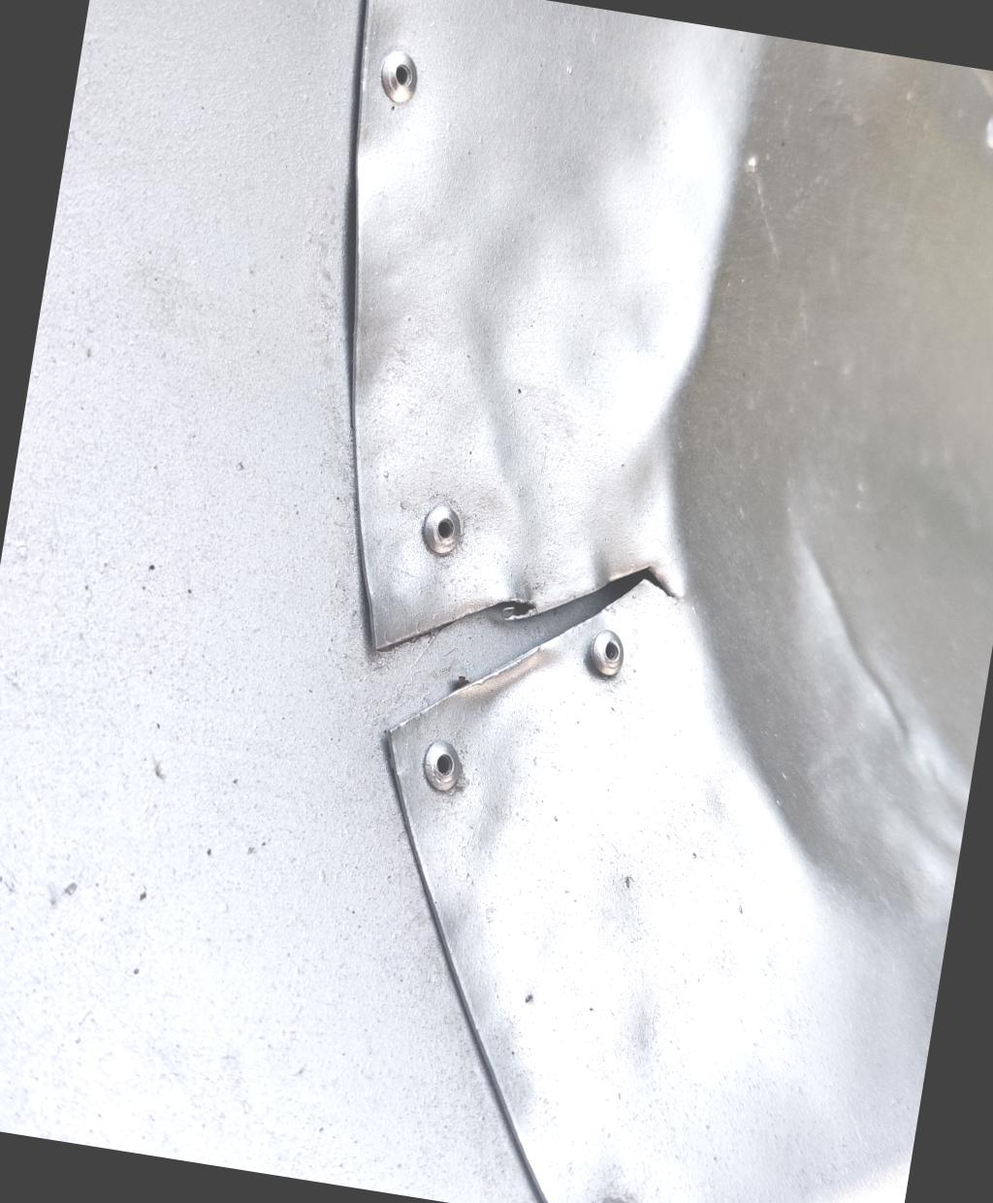crack: (330, 488, 717, 813)
dent: (535, 20, 993, 973)
